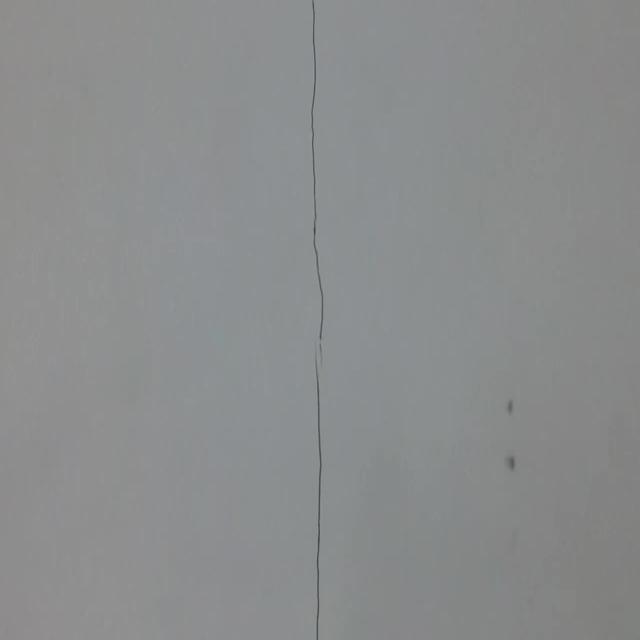Crack: (286, 0, 344, 640)
